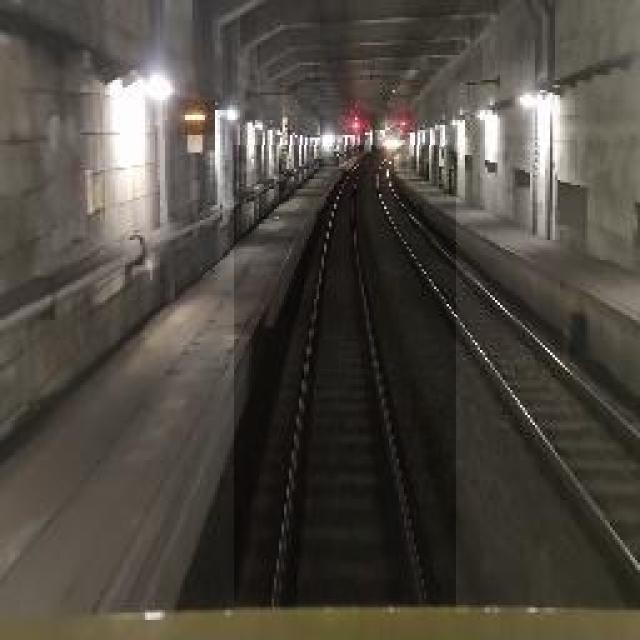rail: (235, 147, 457, 608)
